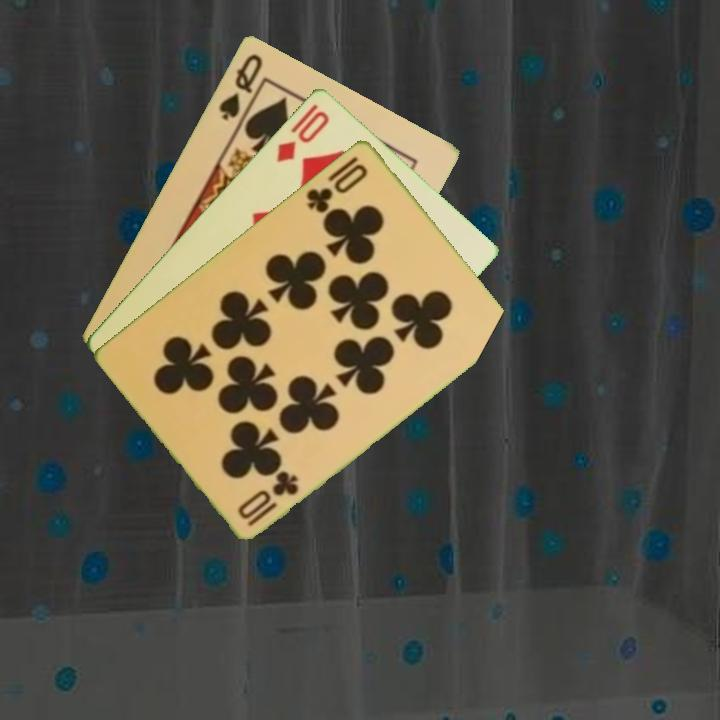10c: (234, 466, 302, 529), (302, 159, 371, 216)
10d: (272, 106, 333, 165)
Qs: (215, 49, 266, 123)
